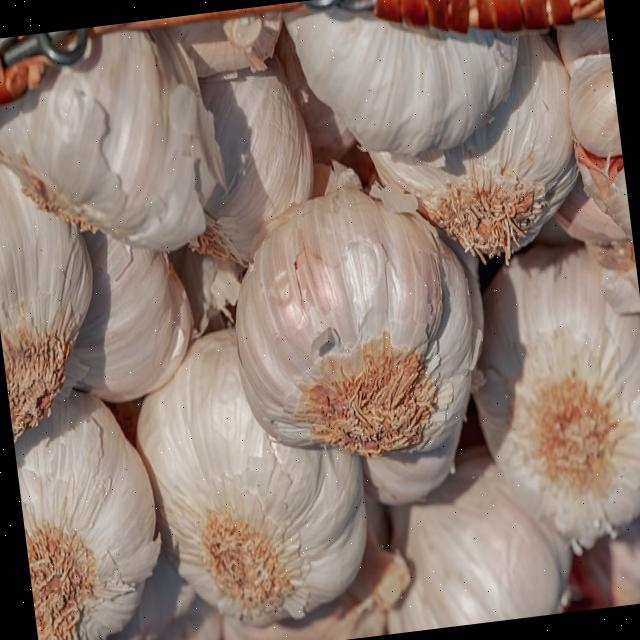garlic: (283, 0, 630, 244), (234, 165, 478, 503), (0, 11, 310, 271), (136, 331, 365, 624), (473, 247, 640, 547), (13, 392, 159, 640), (386, 447, 568, 634), (0, 164, 90, 439)
